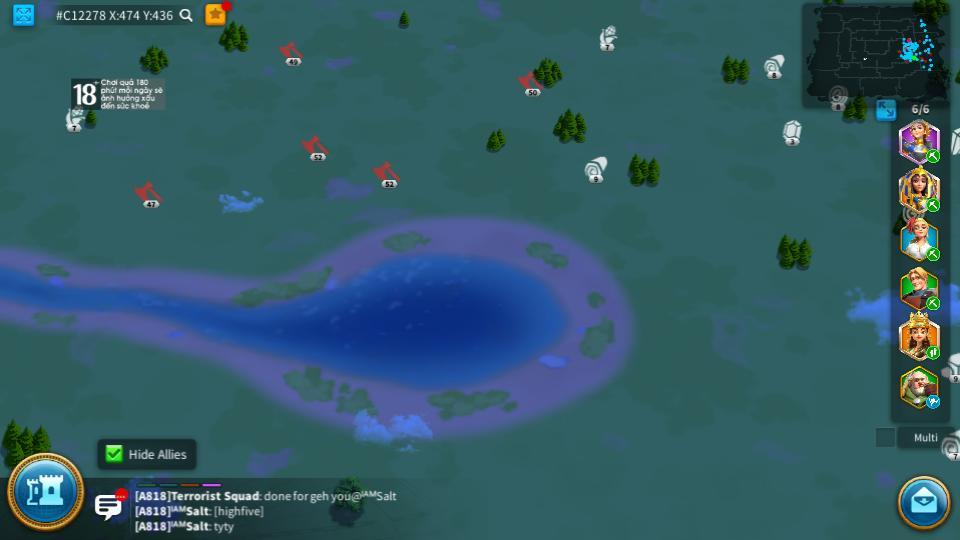gem-z-out: (782, 119, 801, 143)
march_farming: (923, 197, 940, 212), (925, 249, 941, 261)
march_idle: (925, 396, 942, 408)
march_marching: (925, 297, 942, 310), (925, 150, 942, 162), (925, 347, 941, 359)
